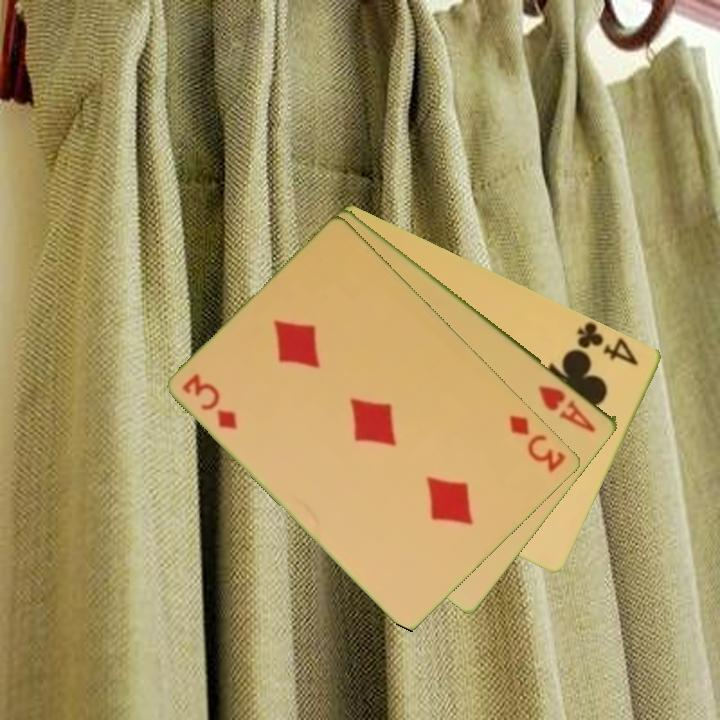3d: (506, 411, 569, 475), (179, 370, 242, 433)
4c: (574, 319, 642, 369)
Ah: (535, 381, 600, 436)
